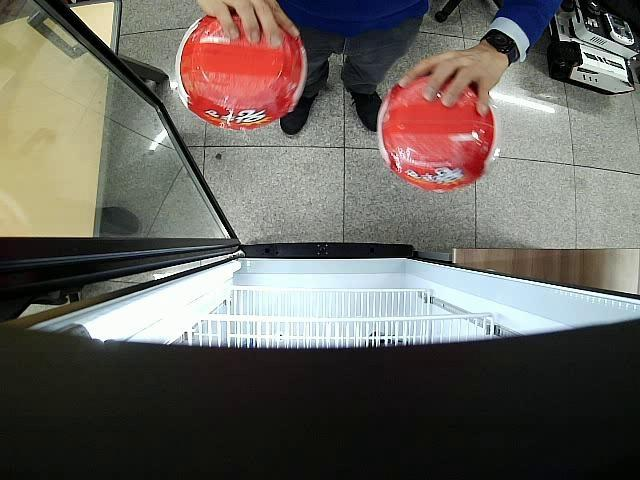10_wangTtukkeong: (175, 13, 308, 131), (378, 74, 500, 193)
